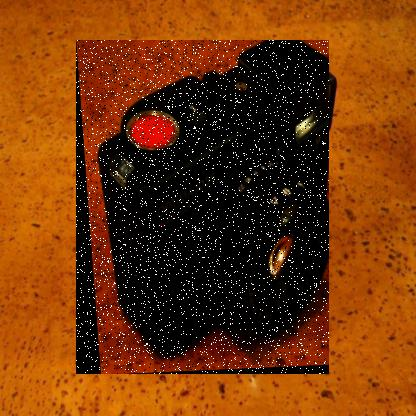Camera: (77, 41, 331, 376)
